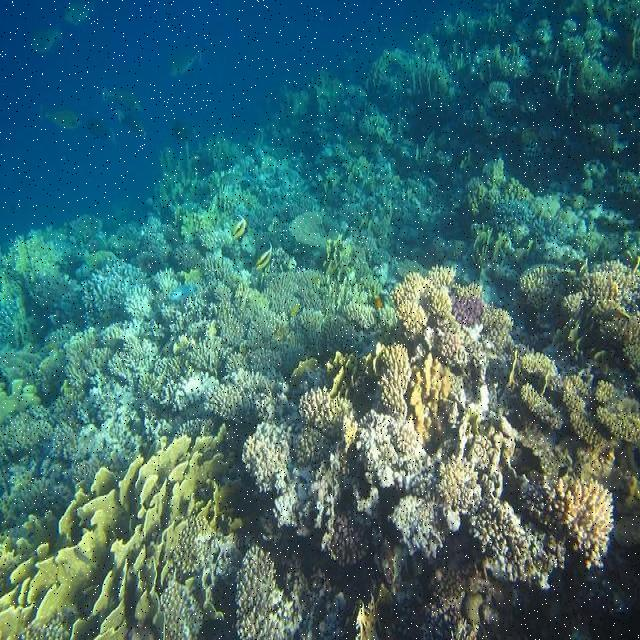fish: (103, 85, 145, 137), (40, 104, 81, 128), (166, 49, 202, 76), (31, 26, 63, 53), (86, 117, 116, 144), (63, 4, 96, 24), (257, 244, 272, 276), (233, 215, 247, 245)
reefs: (213, 265, 638, 639), (0, 416, 345, 639), (519, 259, 639, 396)
